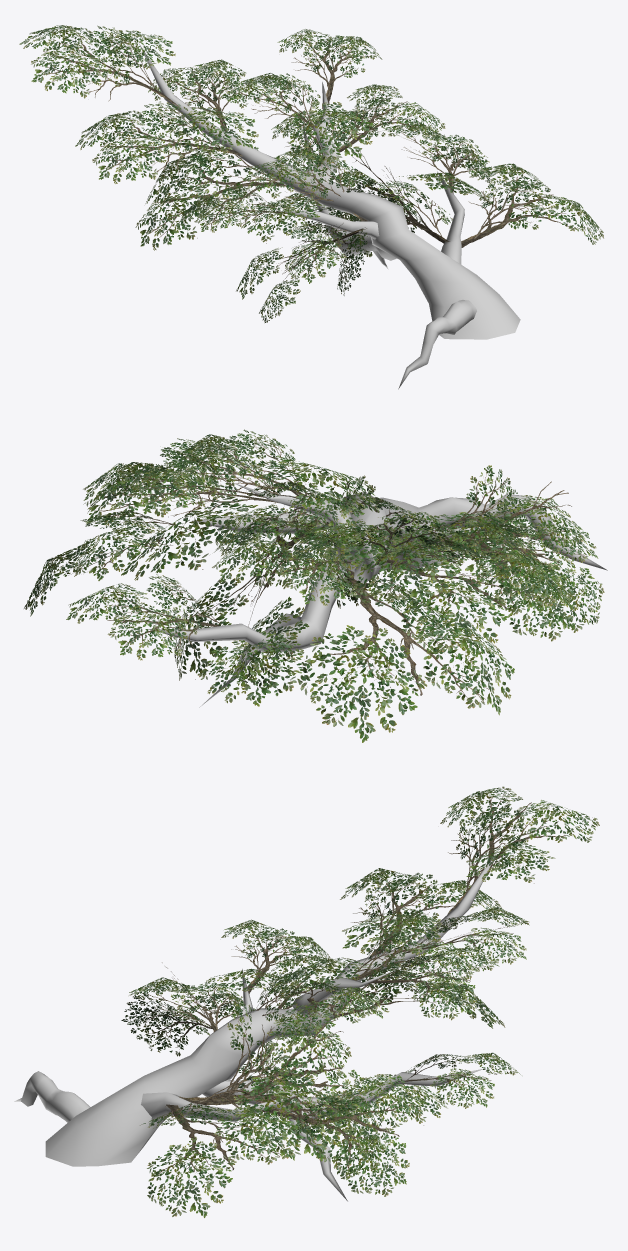
The model's file is Scene_Tree_ShuQiao_4.FBX.
3 renders of one model, top to bottom at view 1: azimuth 30°, elevation 25°; view 2: azimuth 150°, elevation 25°; view 3: azimuth 270°, elevation 25°, orthographic. The views are drawn at different scales.
Parts seen in each view (by area): view 1: Scene_Tree_ShuQiao_4b, Scene_Tree_ShuQiao_4a; view 2: Scene_Tree_ShuQiao_4b, Scene_Tree_ShuQiao_4a; view 3: Scene_Tree_ShuQiao_4b, Scene_Tree_ShuQiao_4a.
Boxes of the visible parts, box(x1,y1,x2,y2) form: Scene_Tree_ShuQiao_4b: box(19, 25, 603, 322); Scene_Tree_ShuQiao_4a: box(139, 44, 520, 389); Scene_Tree_ShuQiao_4b: box(24, 429, 604, 742); Scene_Tree_ShuQiao_4a: box(148, 483, 607, 707); Scene_Tree_ShuQiao_4b: box(121, 786, 599, 1217); Scene_Tree_ShuQiao_4a: box(14, 850, 498, 1201).
Size of the model in its own units: 2265 by 1201 by 2302.
